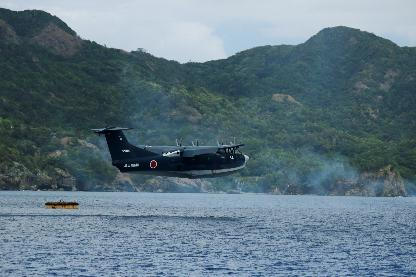Tu95: (88, 125, 249, 178)
